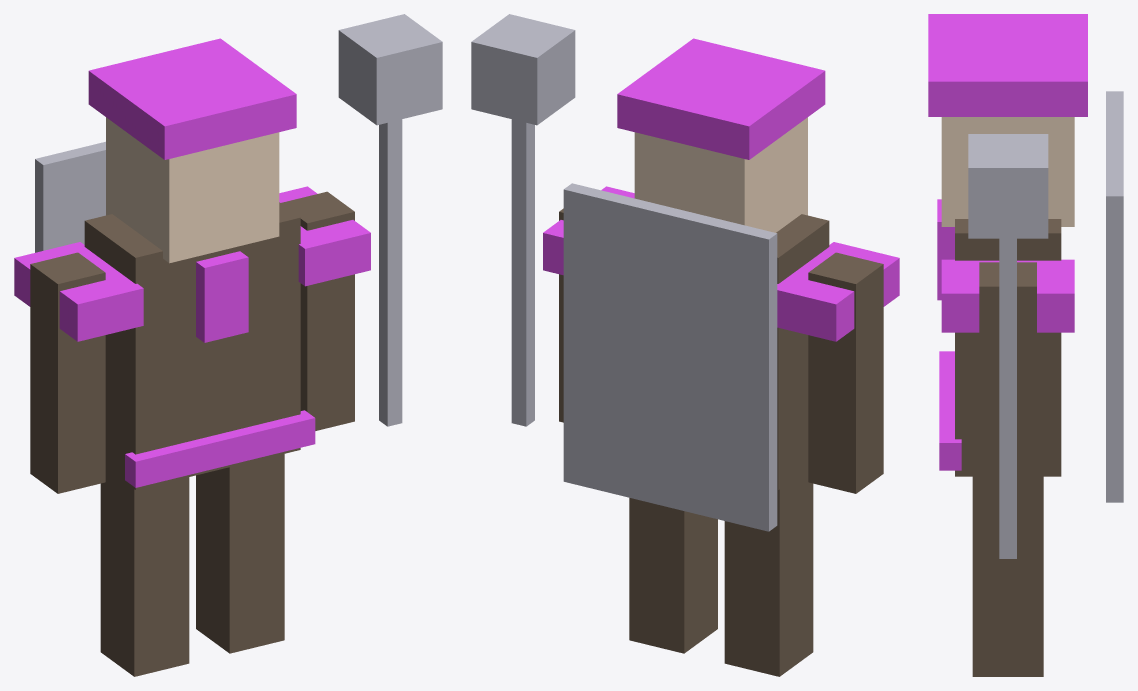
File: 15_lyric_echohand_responder_of_turret.glb
The picture shows the model from 3 angles, left to right: view 1: azimuth 30°, elevation 25°; view 2: azimuth 150°, elevation 25°; view 3: azimuth 270°, elevation 25°; orthographic projection. The views are drawn at different scales.
Visible parts, largest first — view 1: Lyric Echohand, Responder of Turret; view 2: Lyric Echohand, Responder of Turret; view 3: Lyric Echohand, Responder of Turret.
Boxes of the visible parts, x1,y1,x2,y2 form: Lyric Echohand, Responder of Turret: (14,14,442,676); Lyric Echohand, Responder of Turret: (471,14,899,676); Lyric Echohand, Responder of Turret: (928,14,1123,676).
Bounding box in the file's own units: 1.1 × 1.57 × 0.4687.
